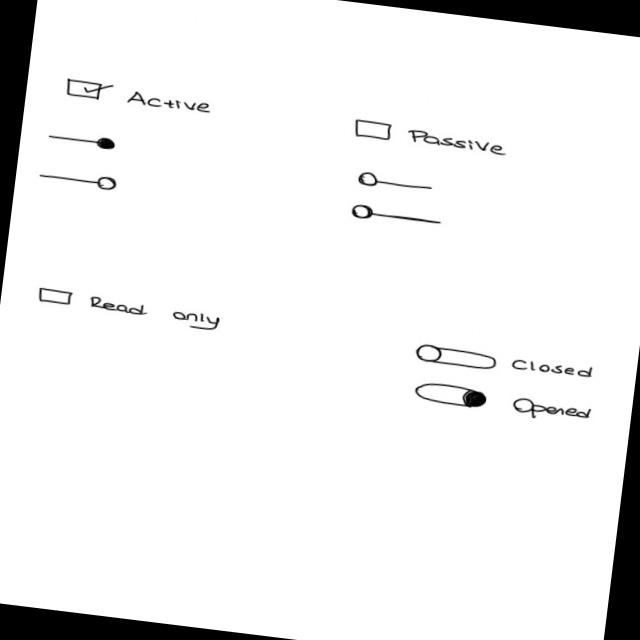checkbox: (36, 285, 223, 334), (351, 117, 513, 158), (64, 77, 216, 119)
label: (511, 396, 593, 427), (510, 355, 596, 381)
slider: (350, 203, 444, 231), (38, 167, 121, 193), (357, 170, 437, 196), (46, 130, 119, 154)
toggle: (413, 380, 491, 412), (415, 344, 499, 373)
